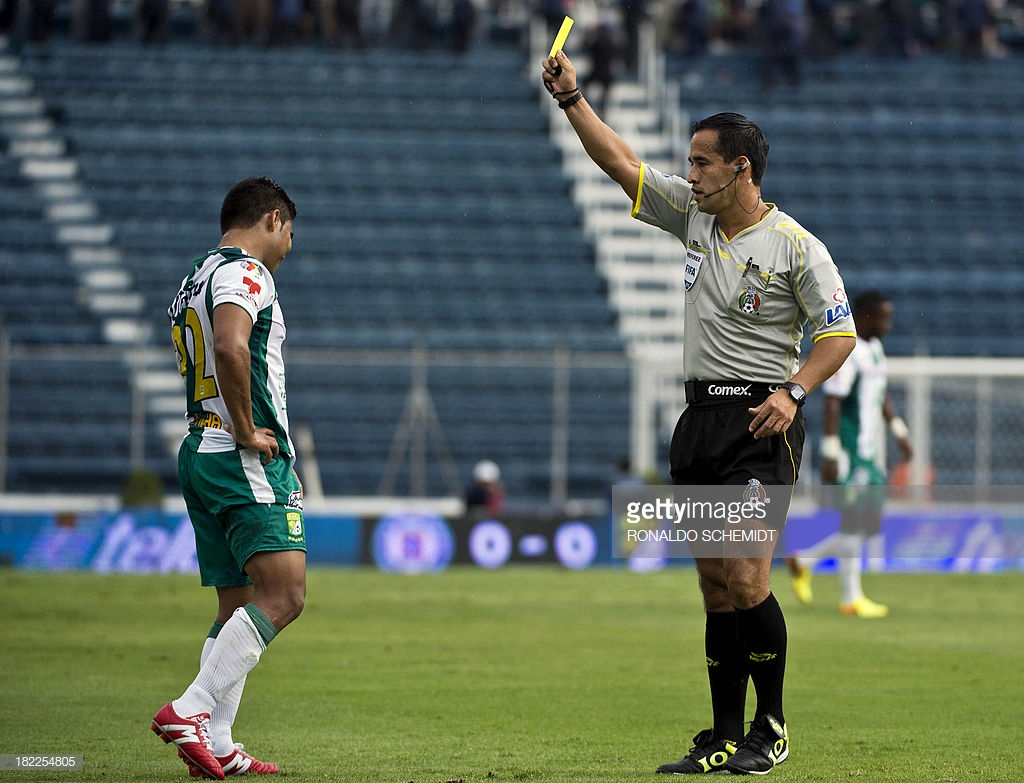yellow_card: (537, 12, 589, 105)
